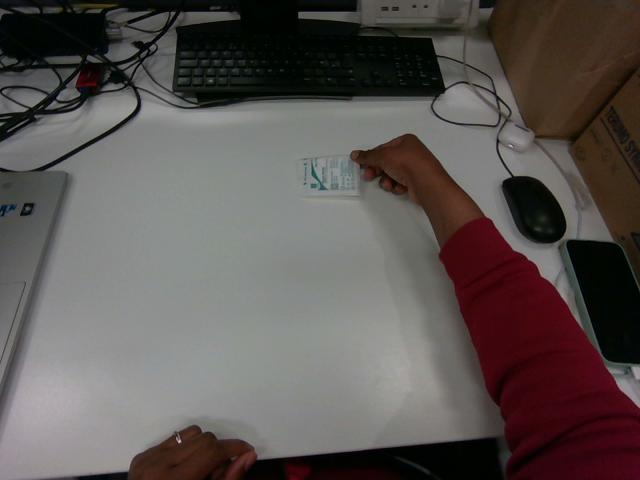gauze: (297, 156, 359, 196)
